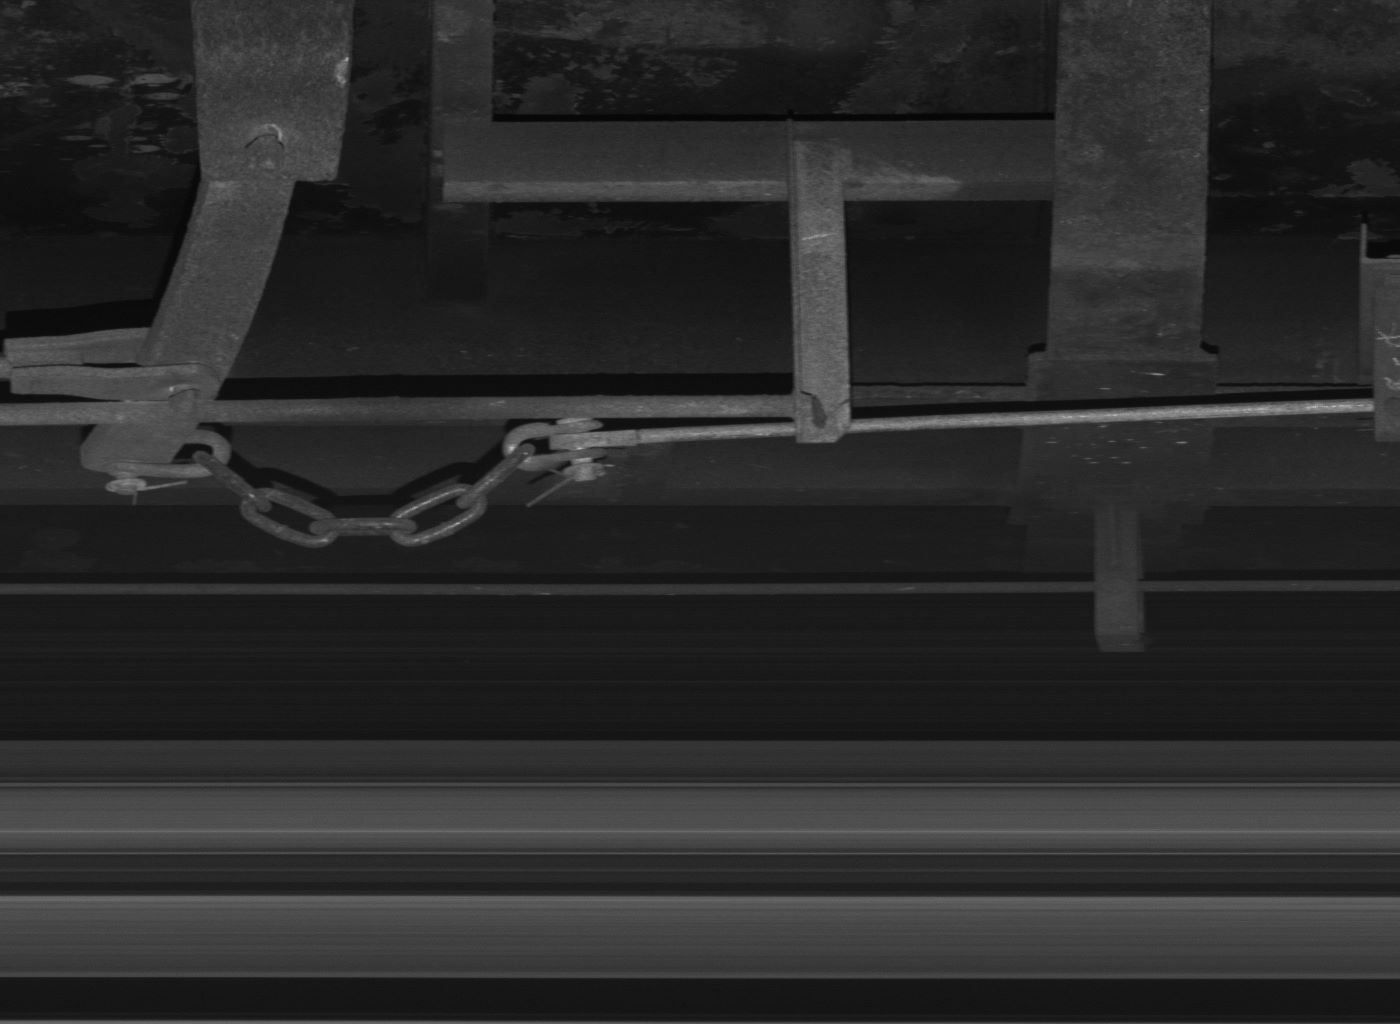normal: (791, 145, 850, 446), (1087, 510, 1149, 652)
